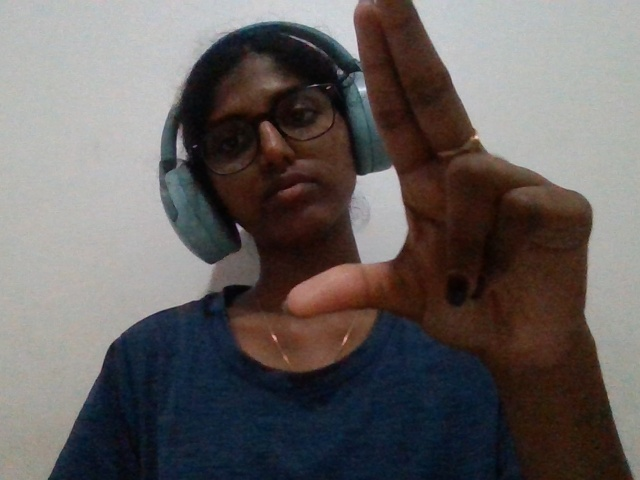No: (249, 7, 640, 417)
